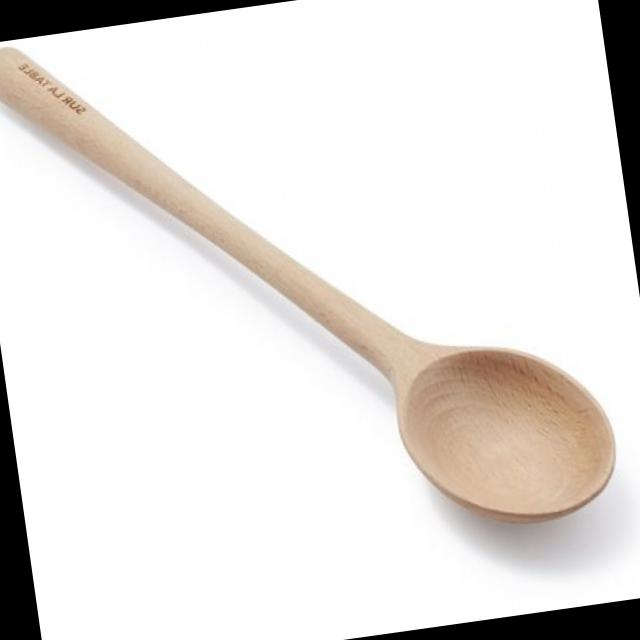spoon: (0, 0, 639, 615)
